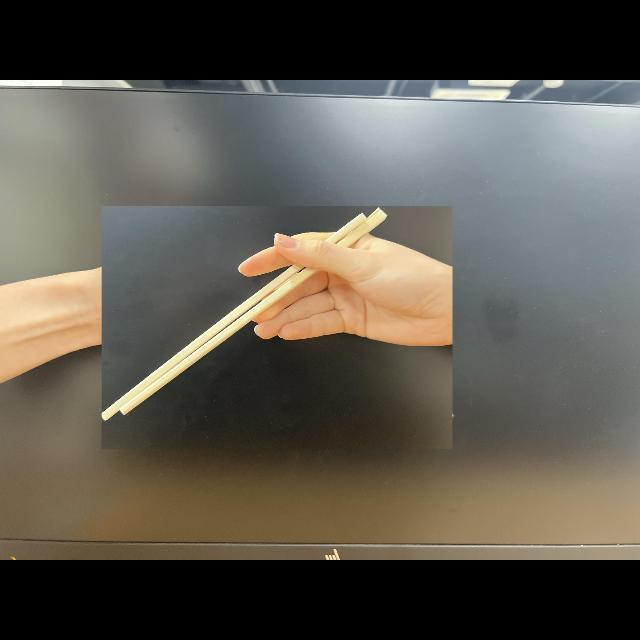stick: (102, 207, 452, 449)
